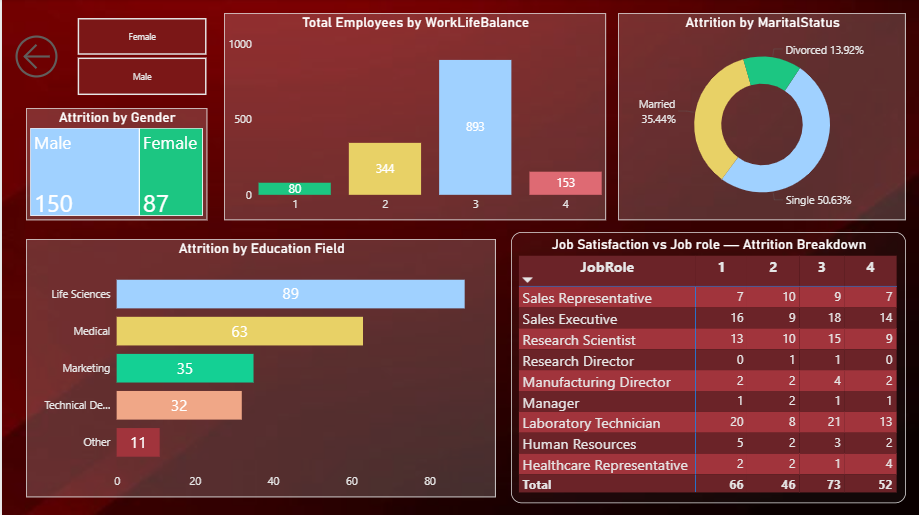

What the dashboard file says about the page in this screenshot:
{"tool":"powerbi","page":{"name":"Page 2","canvas":[1280,720],"ordinal":1},"visuals":[{"type":"donutChart","title":"Attrition by MaritalStatus","fields":{"Category":["HR DATA MODIFIED.MaritalStatus"],"Y":["HR DATA MODIFIED.Attrition count"]},"box":[856.2,19.5,400.3,287.7],"z":0},{"type":"barChart","title":"Attrition by Education Field","fields":{"Category":["HR DATA MODIFIED.EducationField"],"Y":["HR DATA MODIFIED.Attrition count"]},"box":[33.4,333.6,653.3,358.6],"z":1000},{"type":"pivotTable","title":"Job Satisfaction vs Job role — Attrition Breakdown","fields":{"Columns":["HR DATA MODIFIED.JobSatisfaction"],"Values":["HR DATA MODIFIED.Attrition count"],"Rows":["HR DATA MODIFIED.JobRole"]},"box":[707.5,323.9,549,376.7],"z":2000},{"type":"columnChart","title":"Total Employees by WorkLifeBalance","fields":{"Category":["HR DATA MODIFIED.WorkLifeBalance"],"Y":["Sum(HR DATA MODIFIED.EmployeeCount)"]},"box":[308.6,19.5,531,287.7],"z":2001},{"type":"treemap","title":"Attrition by Gender","fields":{"Group":["HR DATA MODIFIED.Gender"],"Values":["HR DATA MODIFIED.Attrition count"]},"box":[33.4,151.5,251.6,155.7],"z":2002},{"type":"slicer","fields":{"Values":["HR DATA MODIFIED.Gender"]},"box":[79.2,19.5,229.3,120.9],"z":2003},{"type":"actionButton","box":[11.1,43.1,136.2,73.7],"z":2004}]}

Visuals, with their boxes in screenshot pixels (x1, y1, x2, y2), scaled from the page's 1280x720 canvas onto the 919x515 screenshot:
"Attrition by MaritalStatus" donutChart: {"x1": 615, "y1": 14, "x2": 902, "y2": 220}
"Attrition by Education Field" barChart: {"x1": 24, "y1": 239, "x2": 493, "y2": 495}
"Job Satisfaction vs Job role — Attrition Breakdown" pivotTable: {"x1": 508, "y1": 232, "x2": 902, "y2": 501}
"Total Employees by WorkLifeBalance" columnChart: {"x1": 222, "y1": 14, "x2": 603, "y2": 220}
"Attrition by Gender" treemap: {"x1": 24, "y1": 108, "x2": 205, "y2": 220}
slicer - HR DATA MODIFIED.Gender: {"x1": 57, "y1": 14, "x2": 221, "y2": 100}
actionButton: {"x1": 8, "y1": 31, "x2": 106, "y2": 84}
